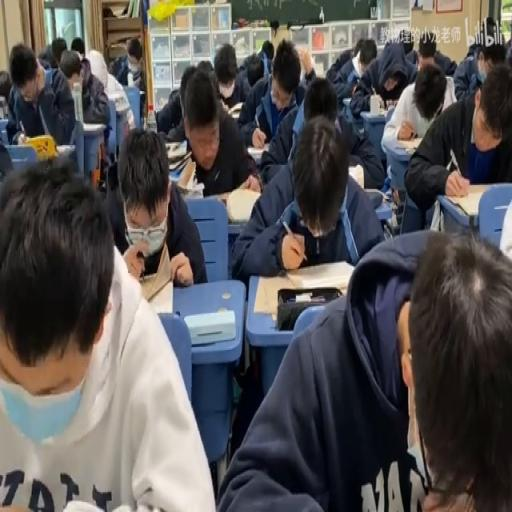calculator: (253, 263, 354, 317), (184, 307, 234, 343), (141, 273, 173, 316), (226, 186, 260, 222), (174, 158, 196, 190), (164, 139, 187, 161), (208, 189, 231, 211), (367, 185, 392, 205), (394, 135, 422, 151), (246, 142, 266, 164), (347, 162, 363, 188), (81, 120, 104, 132), (444, 74, 455, 98), (226, 101, 242, 117), (54, 144, 74, 156), (114, 91, 128, 108), (311, 58, 323, 76), (362, 111, 386, 119), (341, 94, 350, 109)
paper: (399, 224, 510, 512), (404, 58, 510, 220), (102, 122, 204, 286), (278, 68, 386, 191), (7, 40, 74, 145), (67, 41, 112, 169), (154, 60, 190, 136), (406, 27, 457, 78), (212, 40, 242, 108), (453, 47, 485, 98), (123, 34, 146, 98), (325, 38, 354, 81), (497, 192, 512, 264), (474, 14, 503, 50), (245, 52, 265, 86), (379, 74, 403, 102), (480, 43, 506, 68), (296, 44, 315, 78), (107, 55, 129, 84), (0, 131, 13, 179), (0, 68, 12, 106), (50, 36, 66, 64), (398, 28, 414, 54), (79, 57, 91, 88), (259, 40, 274, 64), (196, 58, 214, 76), (70, 36, 84, 58), (352, 38, 365, 57)
